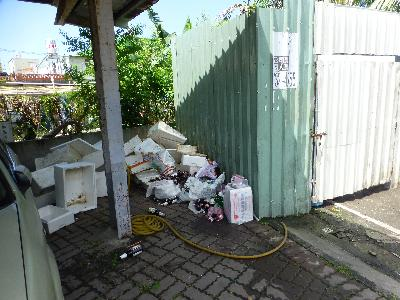bottle: (116, 241, 144, 260), (147, 206, 168, 218)
box: (223, 184, 254, 226)
styrofoam: (51, 161, 98, 214), (51, 137, 104, 169), (32, 203, 77, 236), (145, 118, 186, 154), (30, 163, 72, 197), (179, 152, 209, 168)
